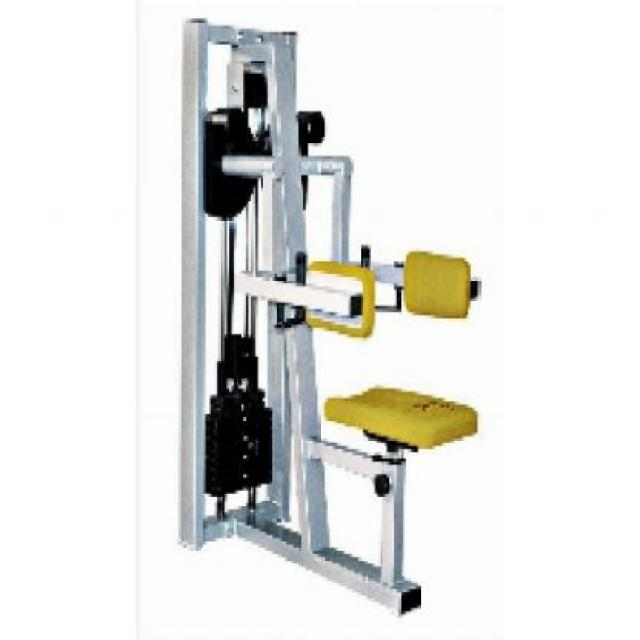lateral raises machine: (175, 14, 483, 617)
